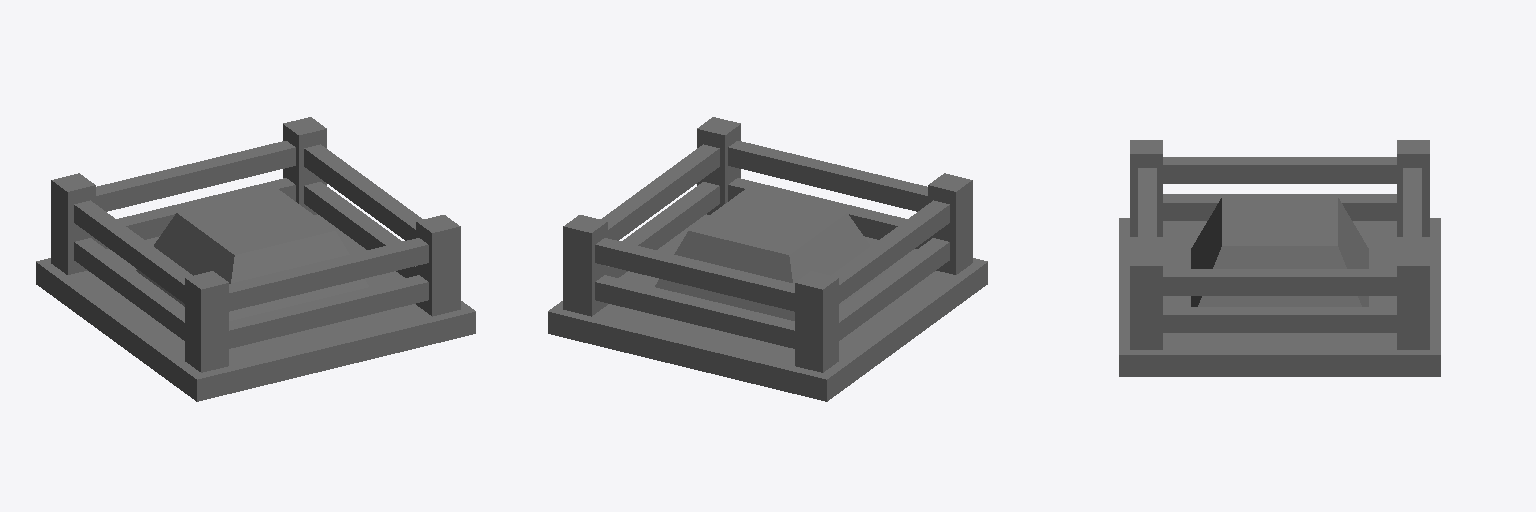
File: TurretBottomMesh.obj
3 views of the same model, side by side, from view 1: azimuth 30°, elevation 25°; view 2: azimuth 150°, elevation 25°; view 3: azimuth 270°, elevation 25° (orthographic).
Parts seen in each view (by area): view 1: TurretMesh:Base2; view 2: TurretMesh:Base2; view 3: TurretMesh:Base2.
Part boxes in pixels (left/top/right/bottom): TurretMesh:Base2: left=36, top=117, right=475, bottom=401; TurretMesh:Base2: left=548, top=117, right=987, bottom=401; TurretMesh:Base2: left=1119, top=140, right=1440, bottom=376.
Bounding box in the file's own units: 18 × 6.5 × 18.